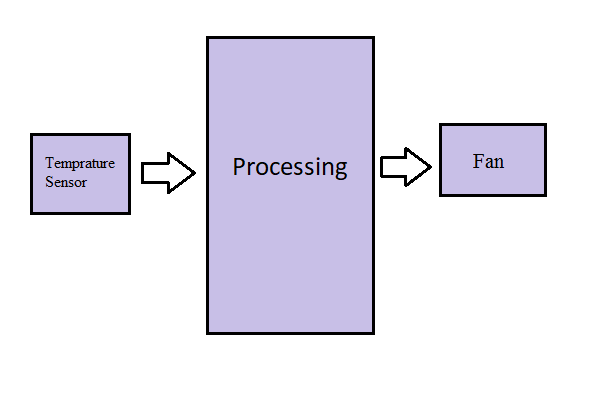arrow: (139, 151, 199, 195), (378, 146, 433, 188)
process: (204, 34, 379, 337), (27, 130, 133, 217), (437, 120, 548, 198)
text: (231, 154, 349, 181), (43, 155, 116, 188), (472, 151, 504, 170)
